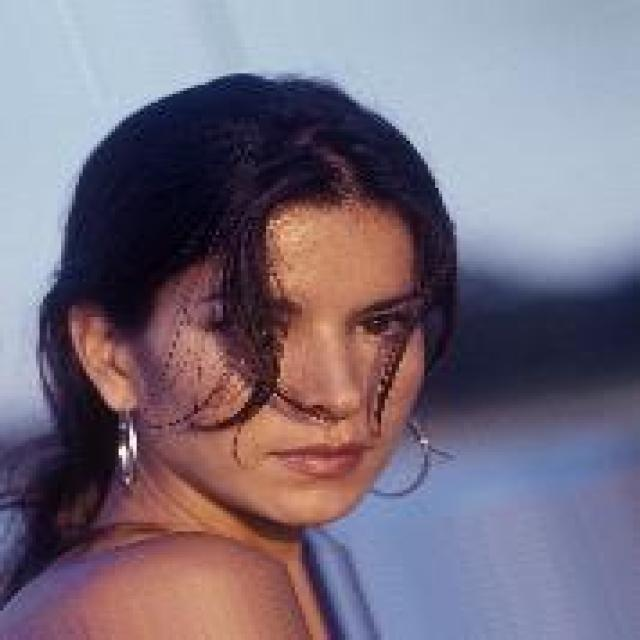bareface: (47, 164, 442, 532)
